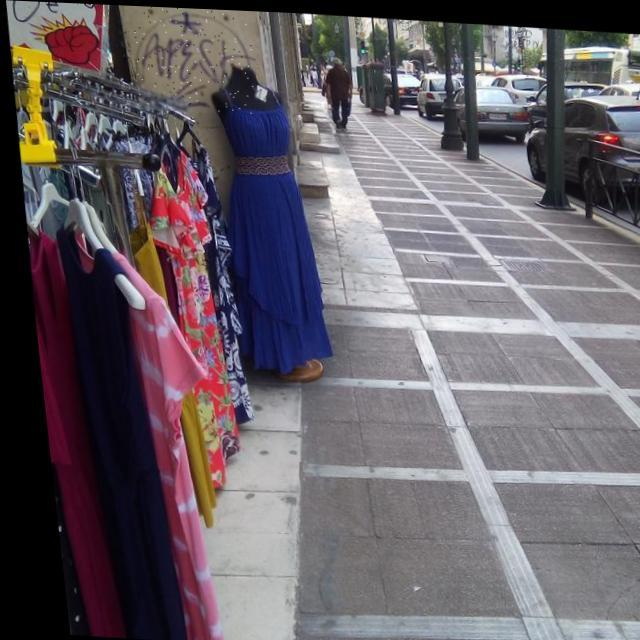-: (127, 4, 258, 112)
